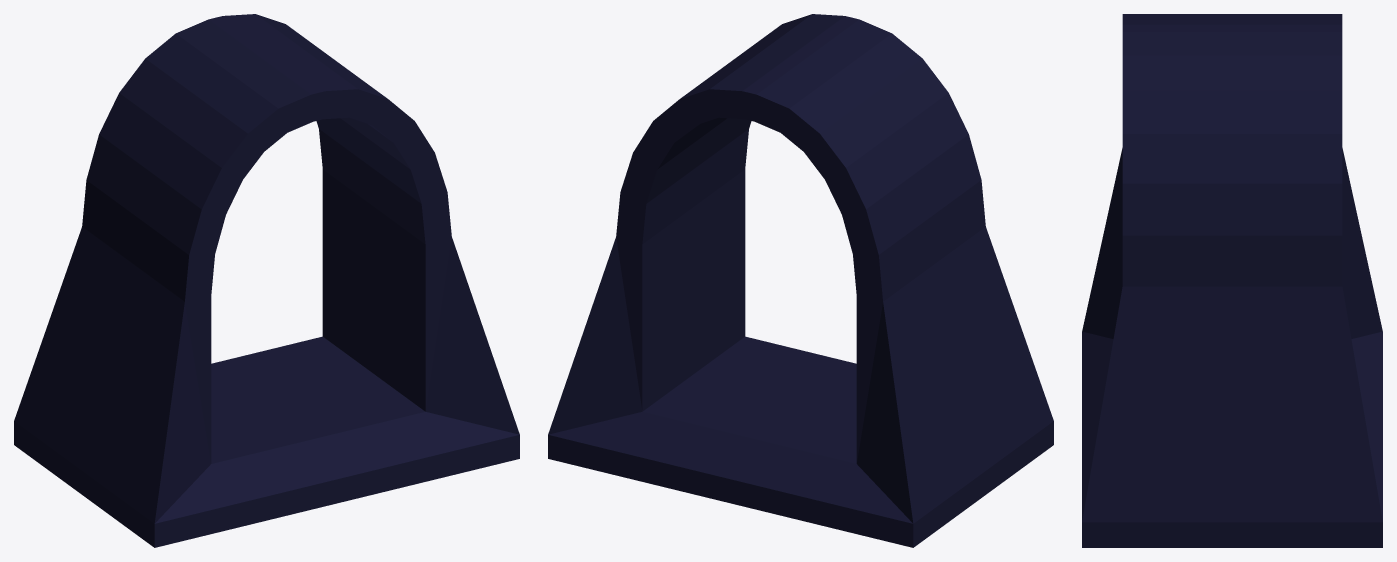
The model's file is Arch.obj.
The picture shows the model from 3 angles, left to right: view 1: azimuth 30°, elevation 25°; view 2: azimuth 150°, elevation 25°; view 3: azimuth 270°, elevation 25°; orthographic projection. The views are drawn at different scales.
Visible parts, largest first — view 1: 立方体; view 2: 立方体; view 3: 立方体.
Part boxes in pixels (x1,y1,x2,y2): 立方体: (14, 14, 519, 547); 立方体: (548, 14, 1053, 547); 立方体: (1082, 14, 1382, 547).
Bounding box in the file's own units: 2.05 × 2.13 × 1.37.
